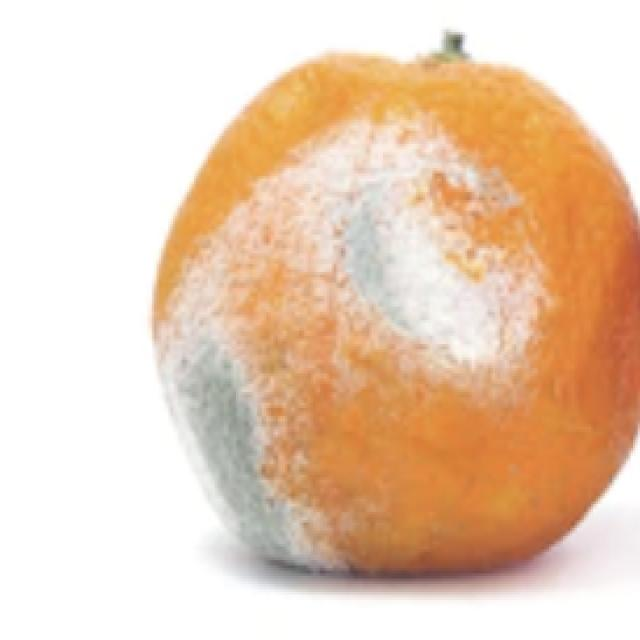sedikit_busuk: (149, 54, 638, 574)
